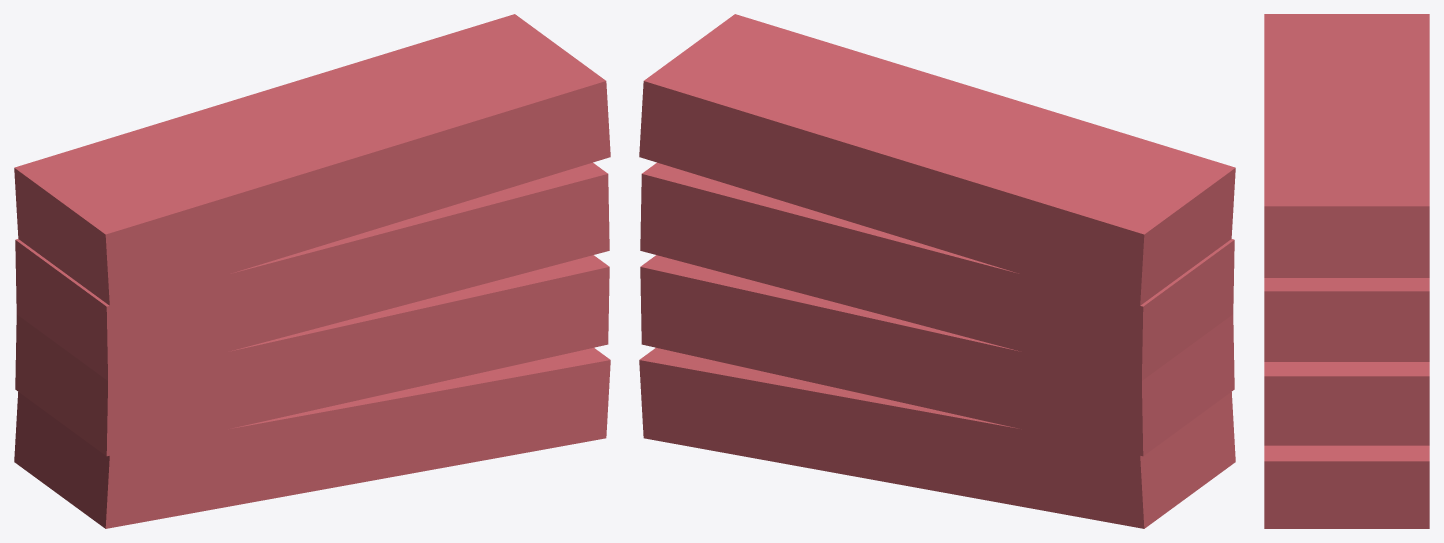
Rendered from ClothBolt.gltf.
3 renders of one model, left to right at view 1: azimuth 30°, elevation 25°; view 2: azimuth 150°, elevation 25°; view 3: azimuth 270°, elevation 25°, orthographic. The views are drawn at different scales.
Parts seen in each view (by area): view 1: ClothBolt; view 2: ClothBolt; view 3: ClothBolt.
Boxes of the visible parts, x1,y1,x2,y2 form: ClothBolt: [14, 14, 610, 528]; ClothBolt: [639, 14, 1235, 528]; ClothBolt: [1264, 14, 1429, 528].
Bounding box in the file's own units: 0.9567 × 0.6467 × 0.3.
